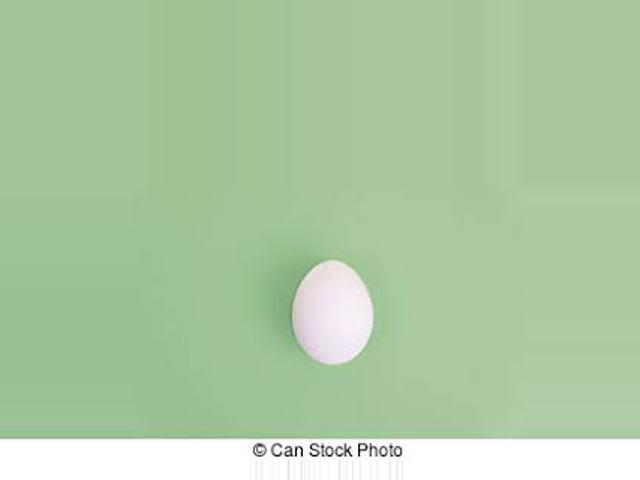egg: (292, 260, 372, 364)
